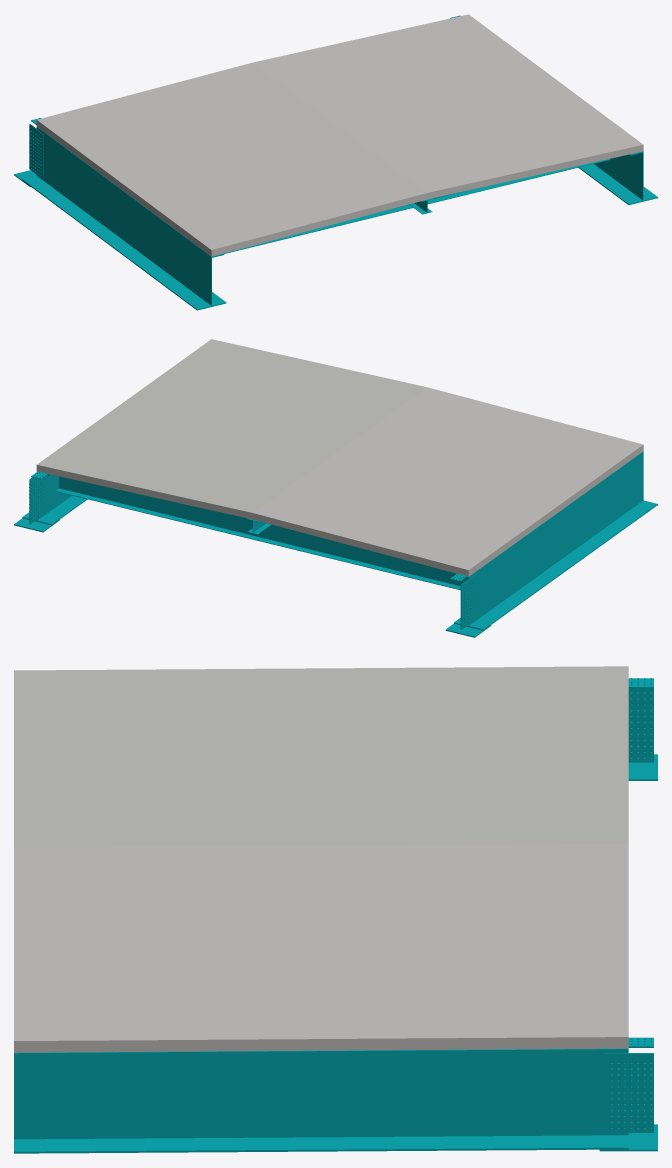
The model's file is DECK_NS03.glb.
The picture shows the model from 3 angles, top to bottom: view 1: azimuth 30°, elevation 25°; view 2: azimuth 150°, elevation 25°; view 3: azimuth 270°, elevation 25°; orthographic projection. The views are drawn at different scales.
Parts seen in each view (by area): view 1: NS03_Slab_15, NS03_G_W_0, NS03_G_E_1, NS03_FB_bf_14, NS03_SpliceW_17; view 2: NS03_Slab_15, NS03_G_W_0, NS03_FB_web_3, NS03_FB_bf_6, NS03_G_E_1, NS03_SpliceW_17, NS03_SpliceW_25; view 3: NS03_Slab_15, NS03_G_E_1, NS03_SpliceW_26, NS03_SpliceW_18.
Part boxes in pixels (x1,y1,x2,y2): NS03_Slab_15: (36,14,643,256); NS03_G_W_0: (22,127,226,310); NS03_G_E_1: (578,151,657,204); NS03_FB_bf_14: (224,159,610,253); NS03_SpliceW_17: (29,124,43,179); NS03_Slab_15: (36,339,643,576); NS03_G_W_0: (454,451,657,630); NS03_FB_web_3: (59,476,468,586); NS03_FB_bf_6: (55,488,460,590); NS03_G_E_1: (22,471,87,525); NS03_SpliceW_17: (461,574,476,629); NS03_SpliceW_25: (30,477,44,524); NS03_Slab_15: (14,666,628,1052); NS03_G_E_1: (14,1048,628,1153); NS03_SpliceW_26: (603,1053,653,1132); NS03_SpliceW_18: (628,688,653,762).
Bounding box in the file's own units: 18.26 × 2.42 × 12.57.
